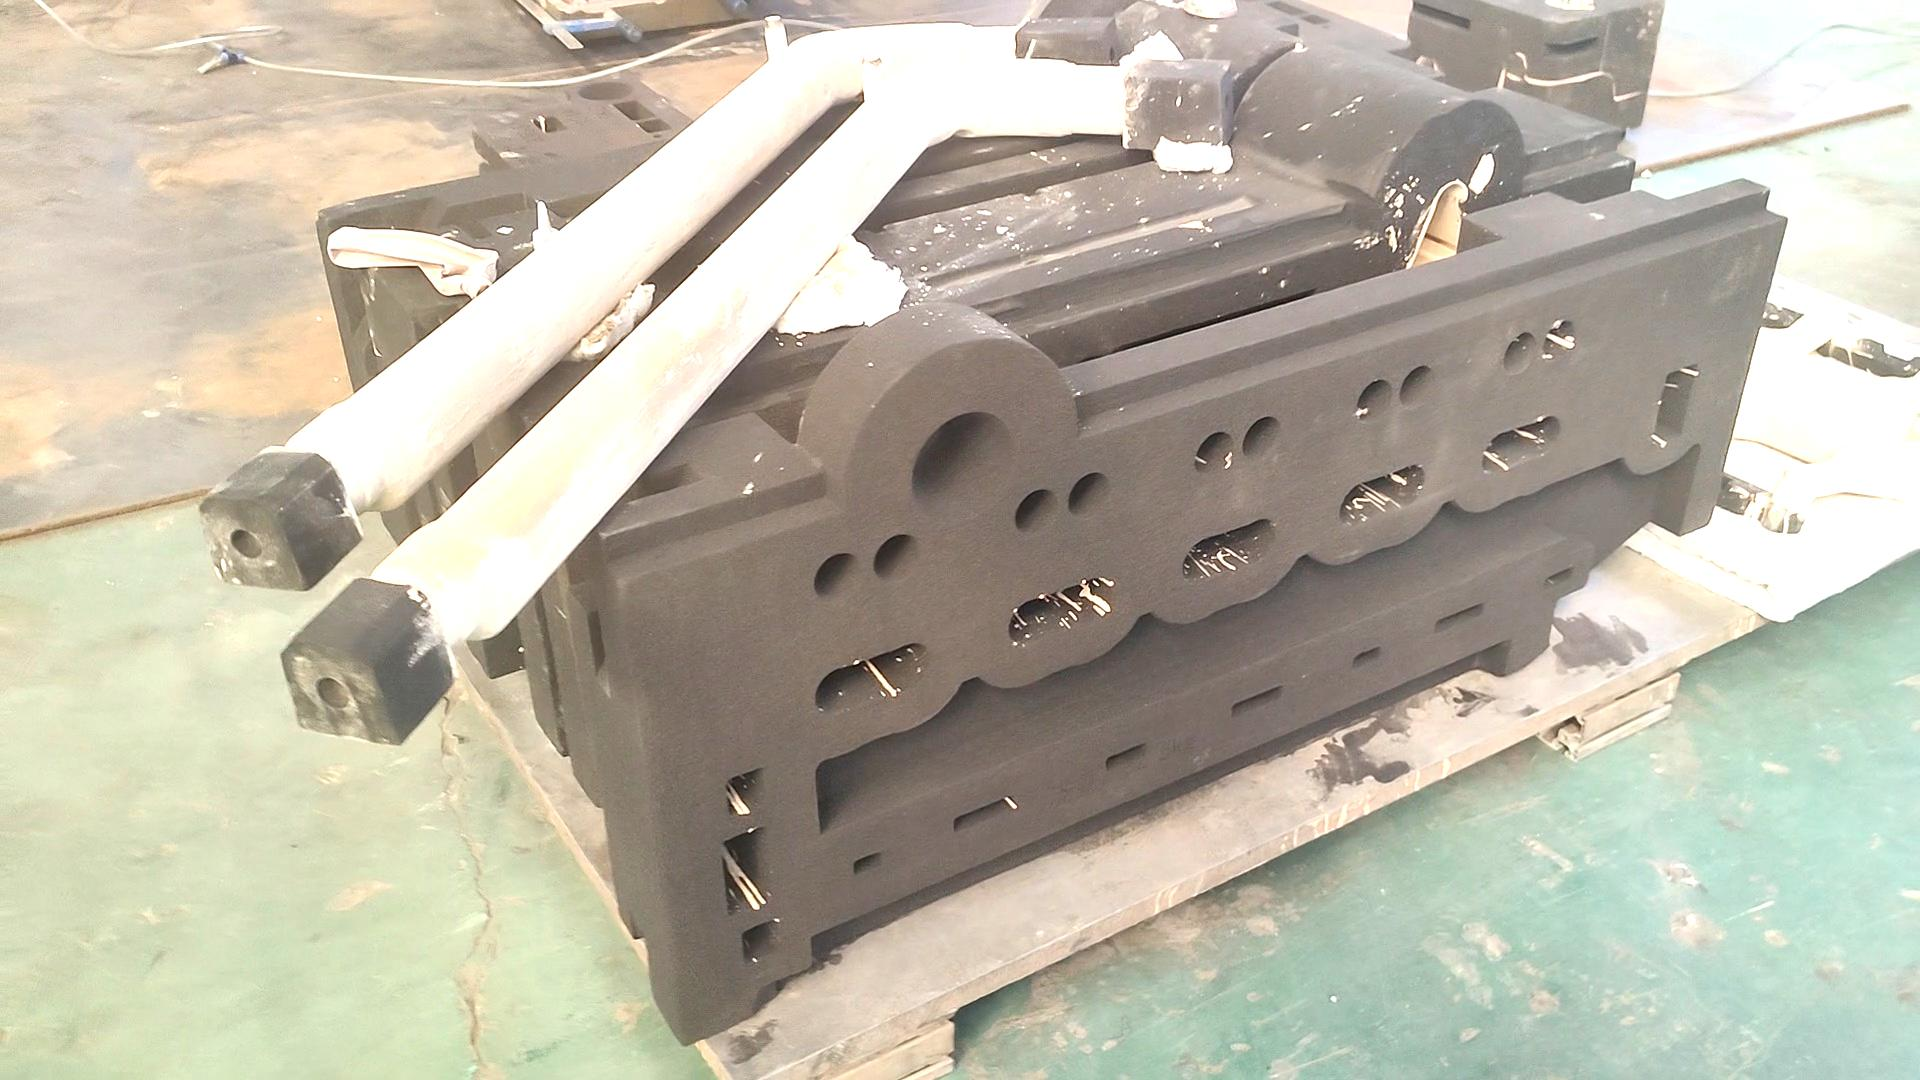pouring hole: (913, 411, 1015, 521), (578, 79, 633, 102)
